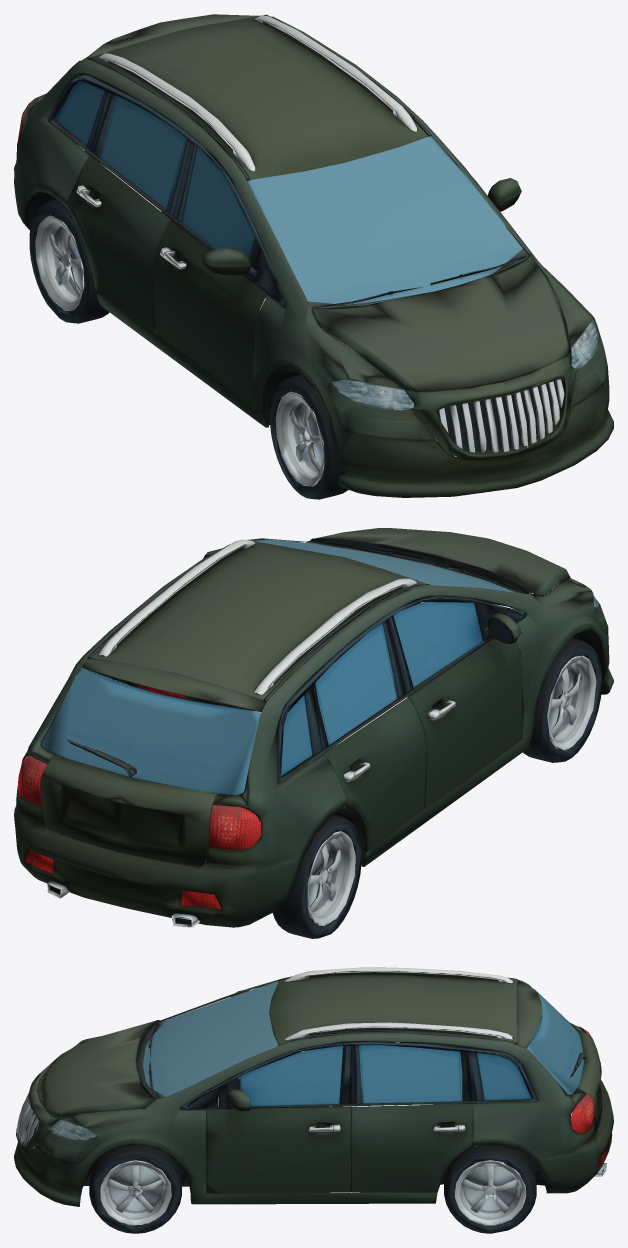
The model's file is suv.glb.
3 views of the same model, one above another, from view 1: azimuth 30°, elevation 25°; view 2: azimuth 150°, elevation 25°; view 3: azimuth 270°, elevation 25° (orthographic). The views are drawn at different scales.
Parts seen in each view (by area): view 1: suv.2, suv_glass.3; view 2: suv.2; view 3: suv.2, suv_glass.3.
Part boxes in pixels (x1,y1,x2,y2): suv.2: (14, 14, 613, 499); suv_glass.3: (331, 319, 598, 410); suv.2: (14, 528, 613, 938); suv.2: (14, 967, 613, 1233); suv_glass.3: (51, 1119, 96, 1140).
Size of the model in its own units: 0.448 by 0.3512 by 1.
2 materials, 2 textured.
